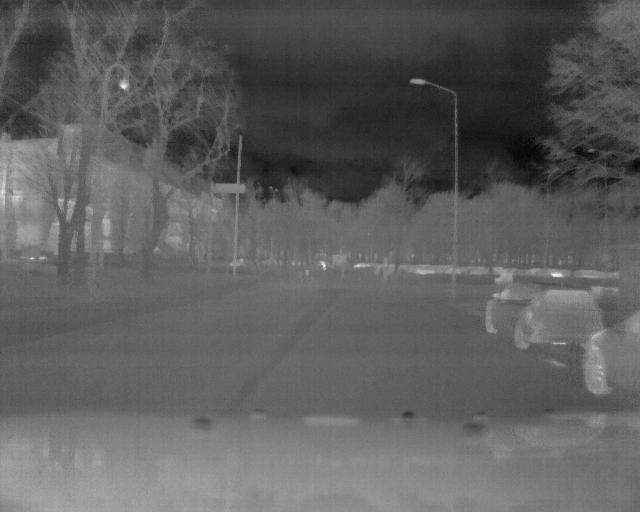car: (481, 272, 608, 350), (585, 306, 640, 396)
